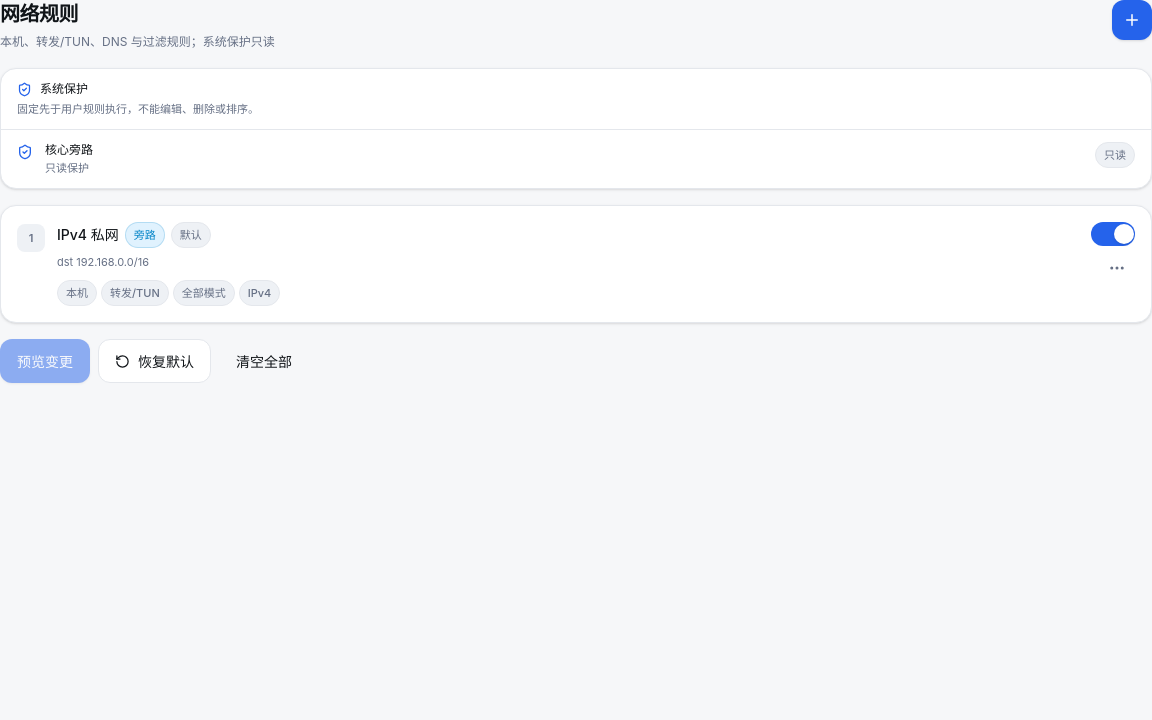
NetworkRulesPage › opens the row editor
Expected: the text "IPv4 私网" is shown, [57,225,119,245]
Click the button named "新增网络规则" at (1132, 20), box [1112,0,1151,40]
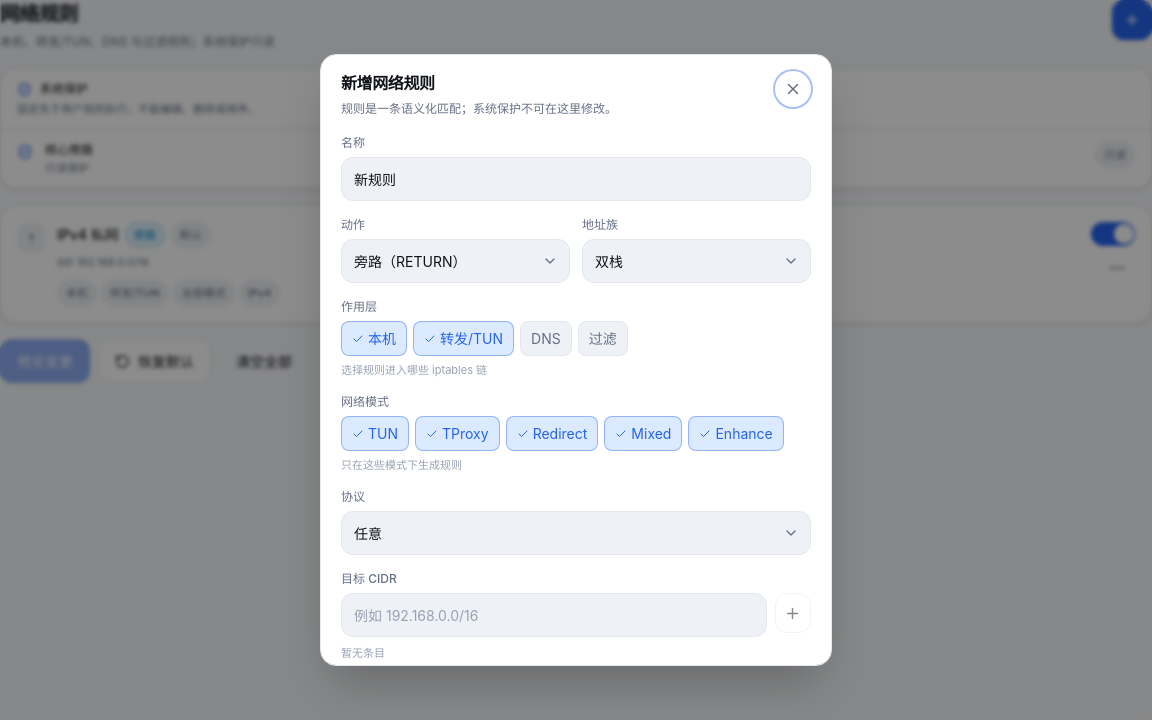
Result: the heading "新增网络规则" is shown at [341,73,435,93]
Result: the field labelled "名称" is shown at [341,157,811,201]
